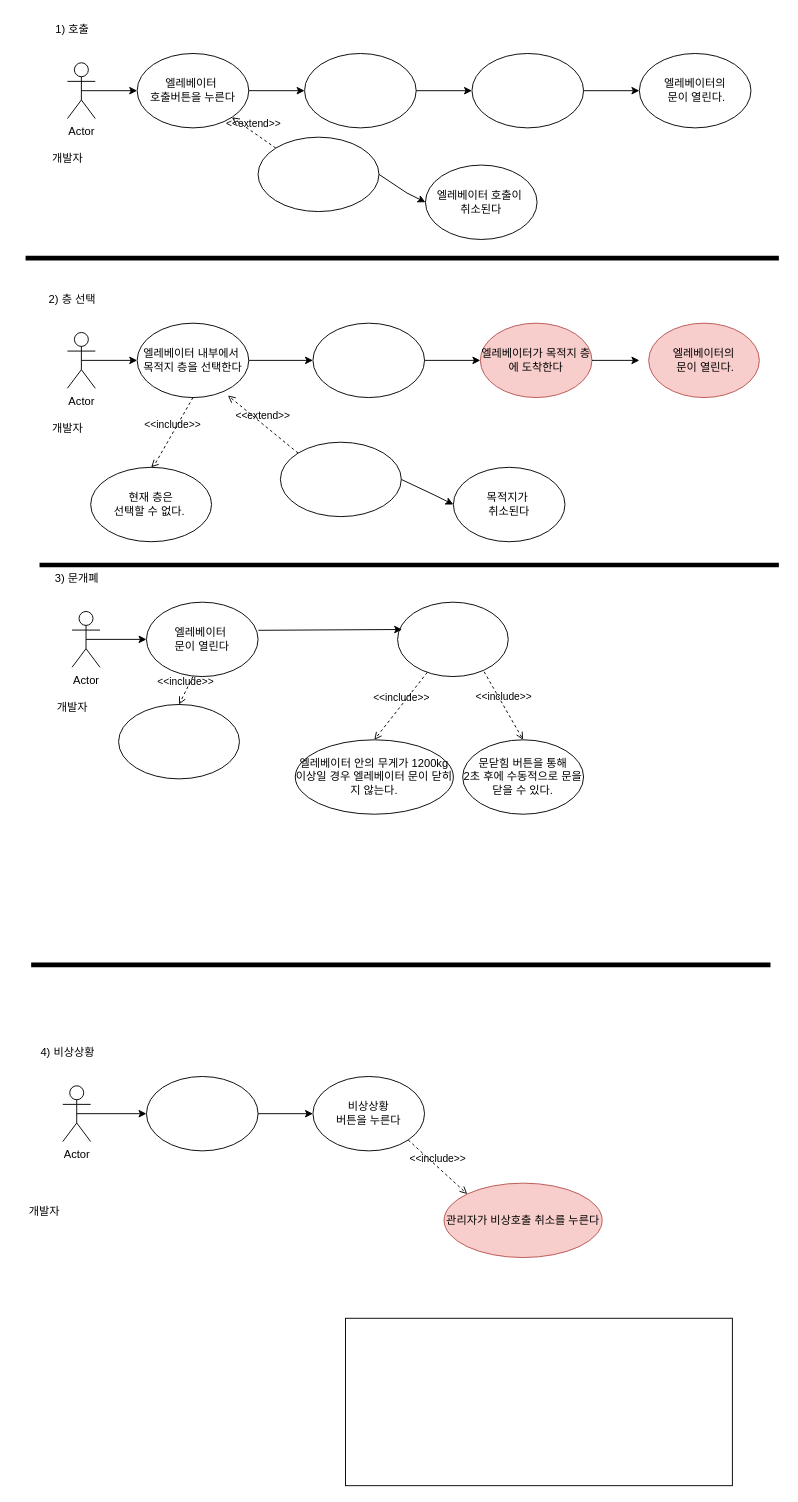
The diagram is 798 pixels wide and 1502 high, and some of its shapes have lost their labels. The shapes that lost their labels are listed below. From the top down, each one's centre as x and y in pixels, then its label:
At (360,90): "엘레베이터가 호출된다".
At (527,90): "엘레베이터가 호출된 층에 도착한다".
At (318,174): "호출버튼을 2초 이내에한 번 더 누른다".
At (368,360): "엘레베이터가 운행한다".
At (340,479): "목적지 층을 한 번 더 누른다".
At (452,639): "엘레베이터의 문이 닫힌다.".
At (178,741): "문열림 버튼을 통해 2초 후에 수동적으로 문을 열어 놓을 수 있다.".
At (202,1113): "비상상황임을 인지한다".
At (538,1401): "빨간색 끝이 맞는지 아니면 include/extend 처리 해야하는지 긴가민가한 애들입니당...".
